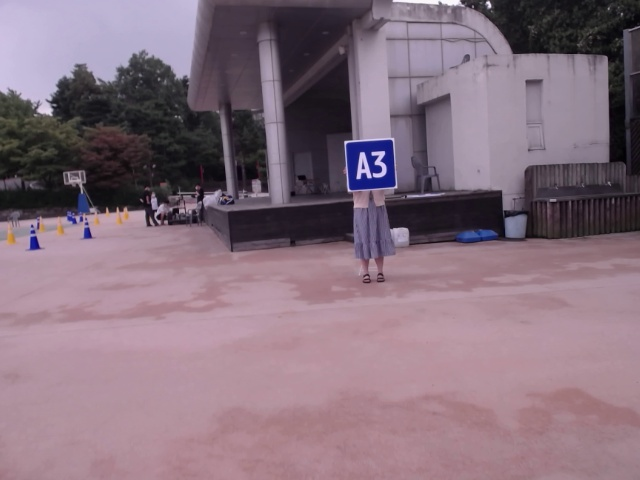delivery_a3: (345, 138, 397, 191)
